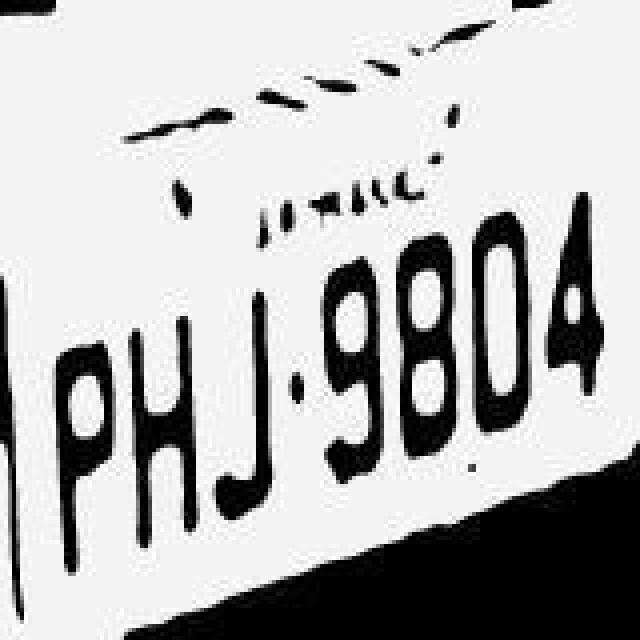4: (538, 180, 614, 444)
8: (392, 224, 464, 496)
9: (316, 236, 388, 516)
H: (122, 280, 198, 552)
J: (208, 276, 280, 540)
O: (468, 182, 540, 458)
P: (44, 278, 124, 546)
